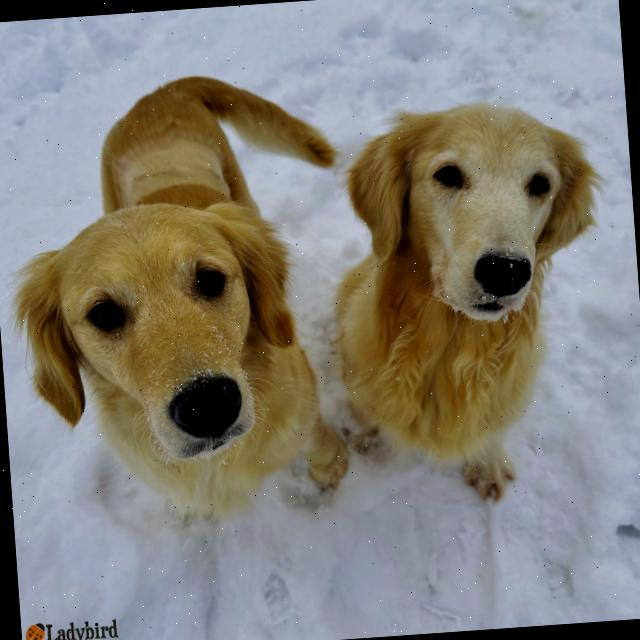golden_retriever_dog: (5, 178, 315, 496), (331, 90, 605, 346)
